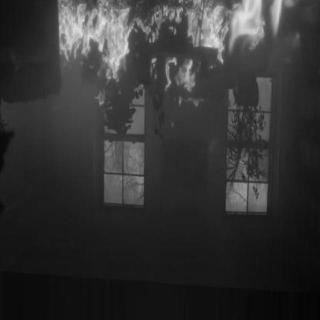Fire: (55, 0, 303, 132)
